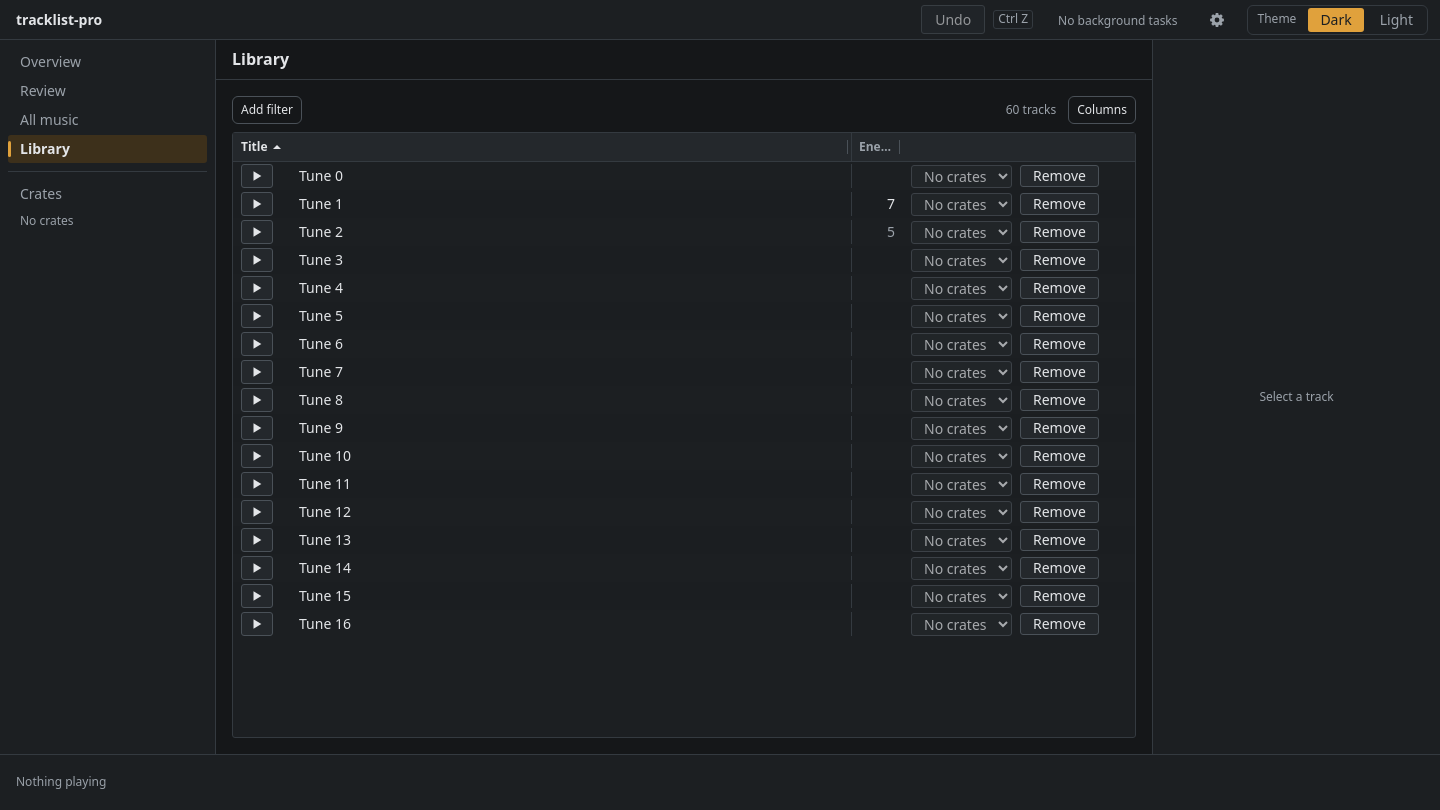
Scenario: the Energy column's popover › opens under a click on the cell, selects that row and puts the focus on the track's current energy
Expected: the table is shown, 233,133 -> 1135,737
Click the button "7". click: (877, 204)
box: 859,194 -> 895,214
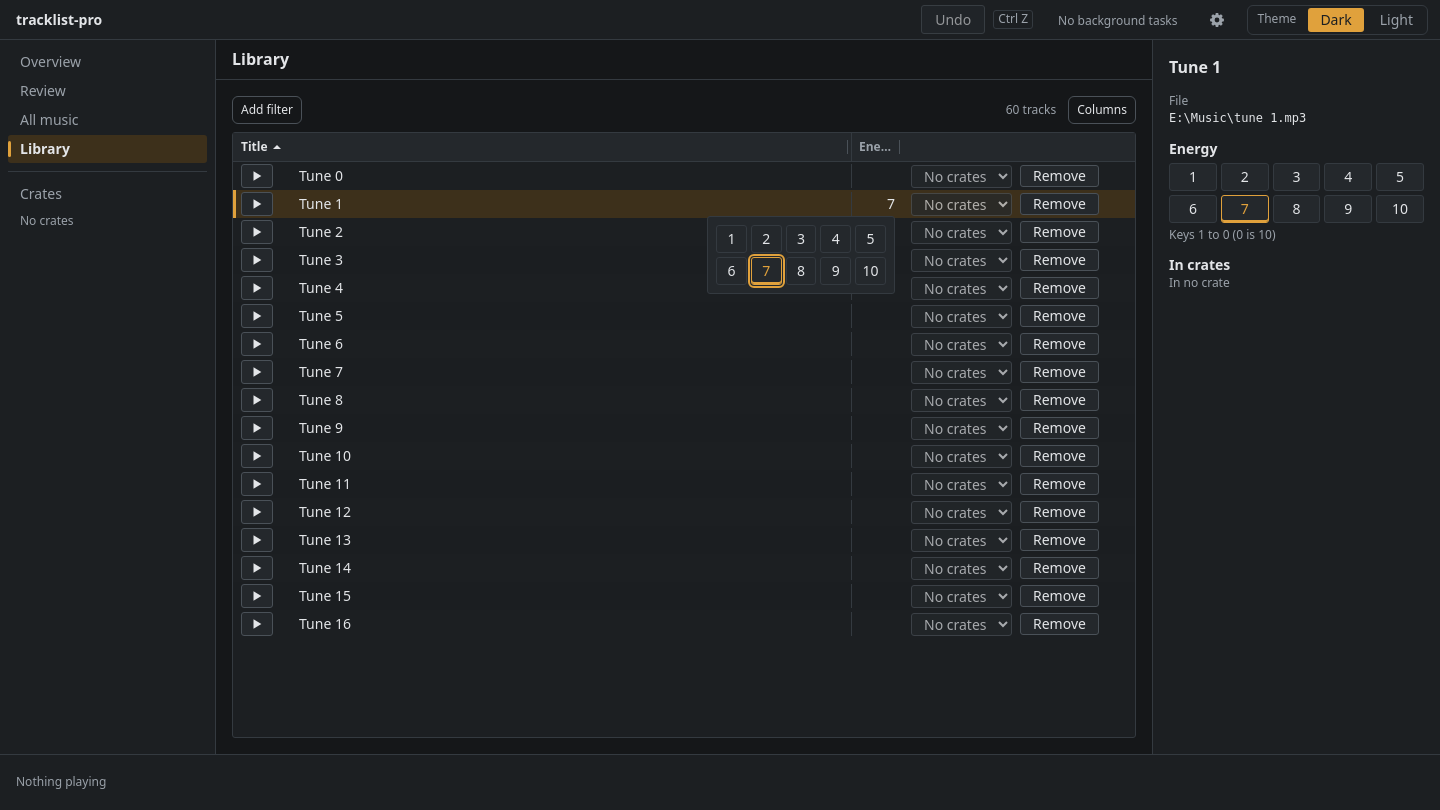
Now the dialog named "Energy" is shown, box 707,216 -> 895,294
Now the button "7" below "60 tracks" is expanded, box 859,194 -> 895,214
